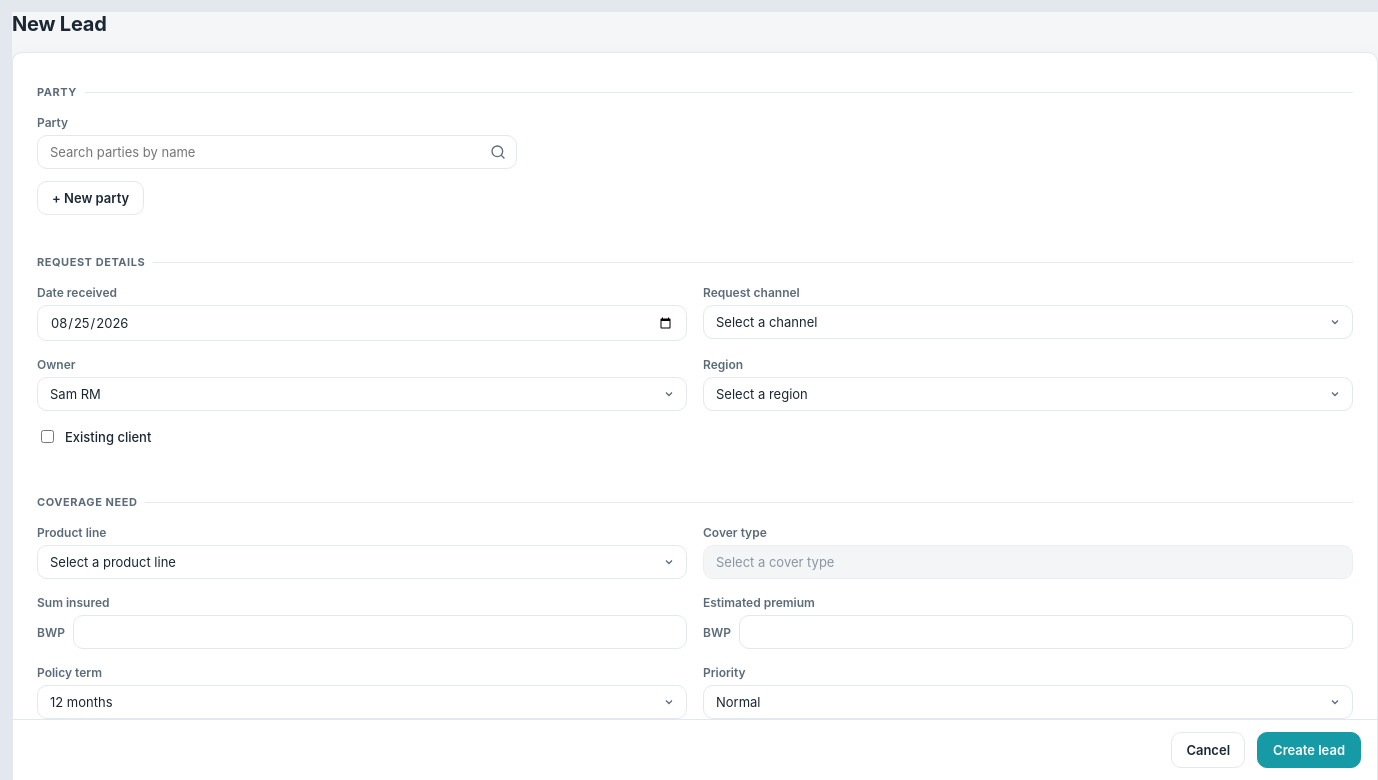
Test: LeadFormPage › selectParty_WhenSearchResultClicked_ShouldCollapseToReadOnlySummary
In the dropdown with test id "party-select": (277, 152) [37,135,517,169], type "Acme"
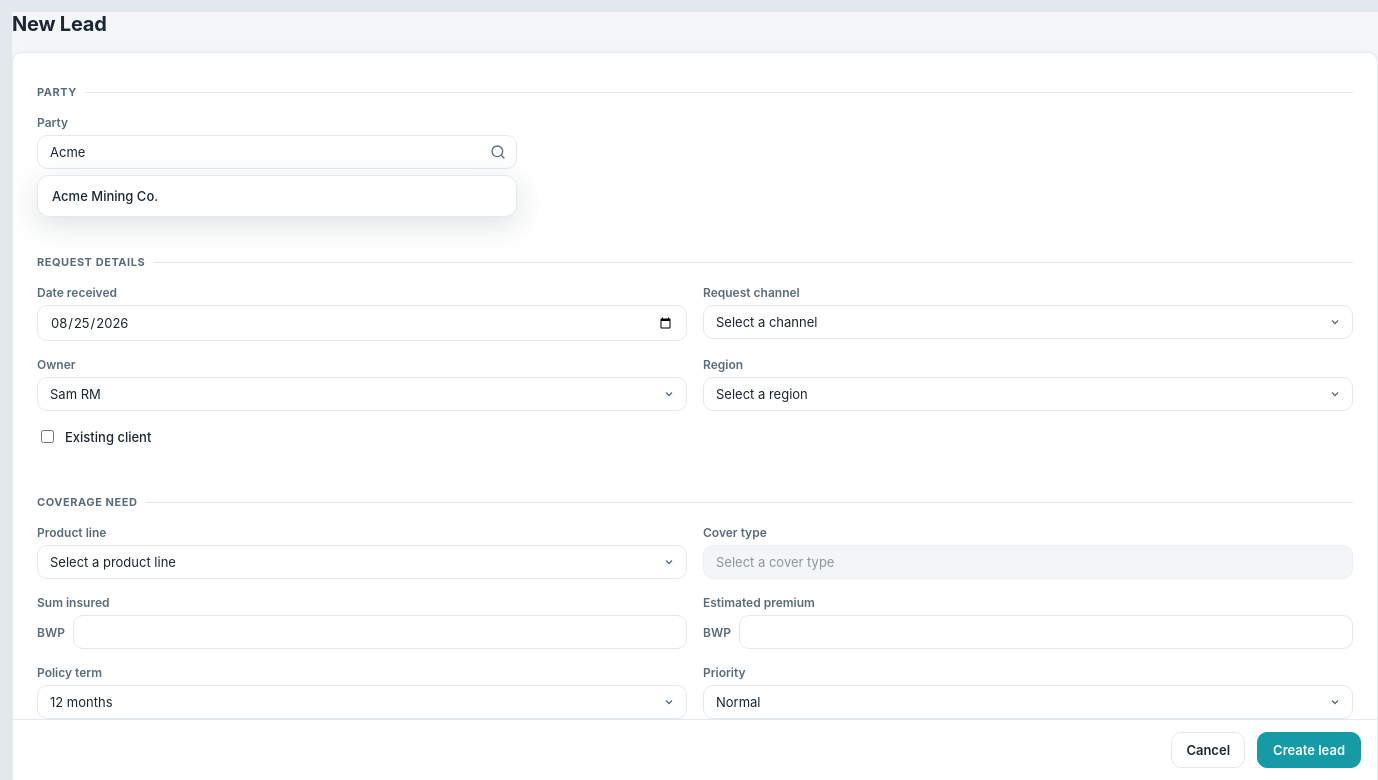
Click the option with test id "party-search-result": (105, 196) [42,180,512,212]
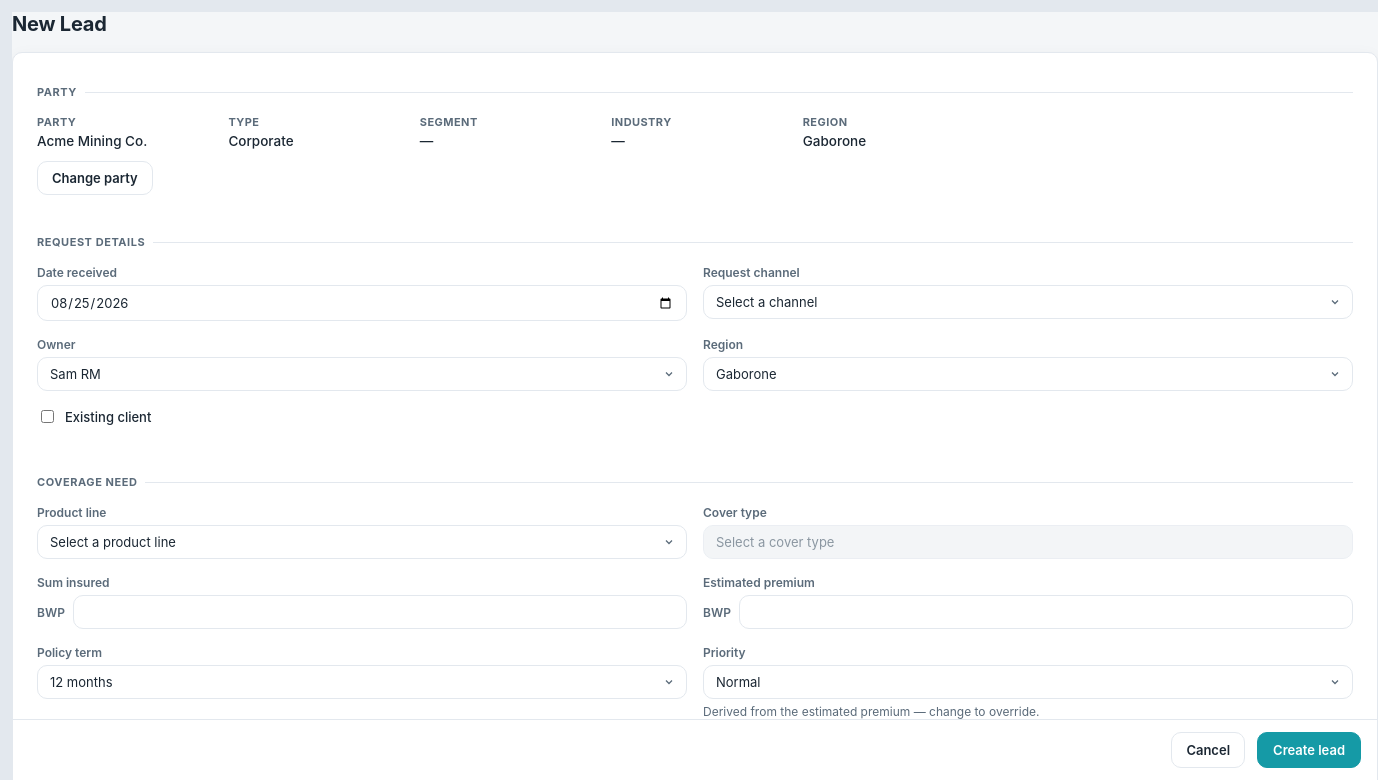
Expected: the element with test id "party-summary-collapsed" shows "Acme Mining Co.", [37,133,147,149]
Expected: the dropdown with test id "party-select" is gone
